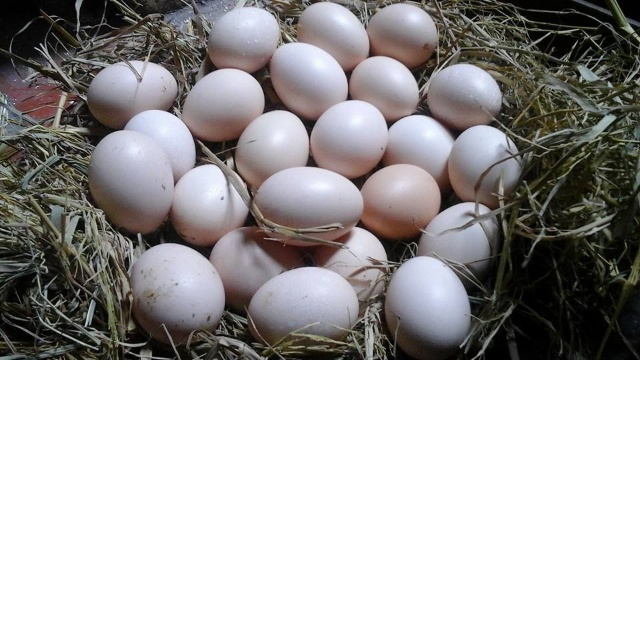trung_ga: (130, 241, 228, 347), (247, 165, 367, 247), (379, 253, 473, 357), (84, 130, 174, 237), (247, 265, 362, 345), (80, 57, 181, 128), (443, 120, 525, 206), (178, 65, 269, 142), (413, 200, 500, 279), (356, 161, 441, 240), (171, 159, 250, 244), (307, 96, 390, 173), (229, 106, 316, 179), (268, 41, 350, 117), (381, 112, 462, 183), (205, 4, 285, 75), (425, 62, 506, 132), (292, 2, 371, 66), (345, 54, 421, 119), (364, 1, 440, 66)
